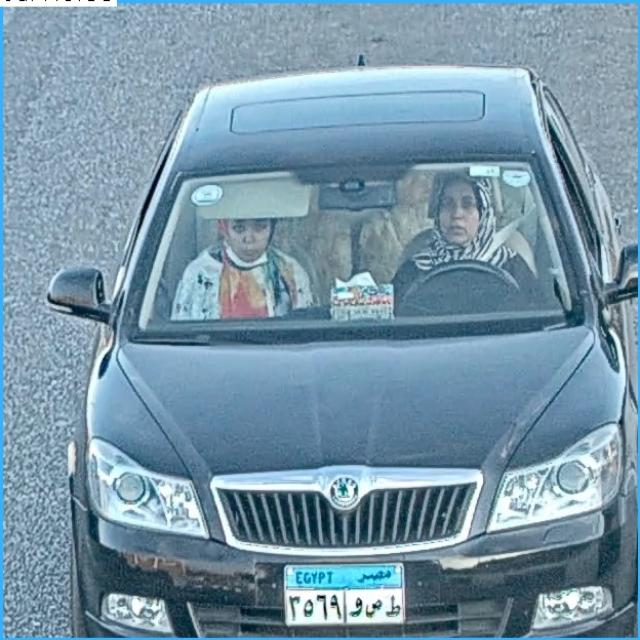windshield: (136, 152, 578, 337)
